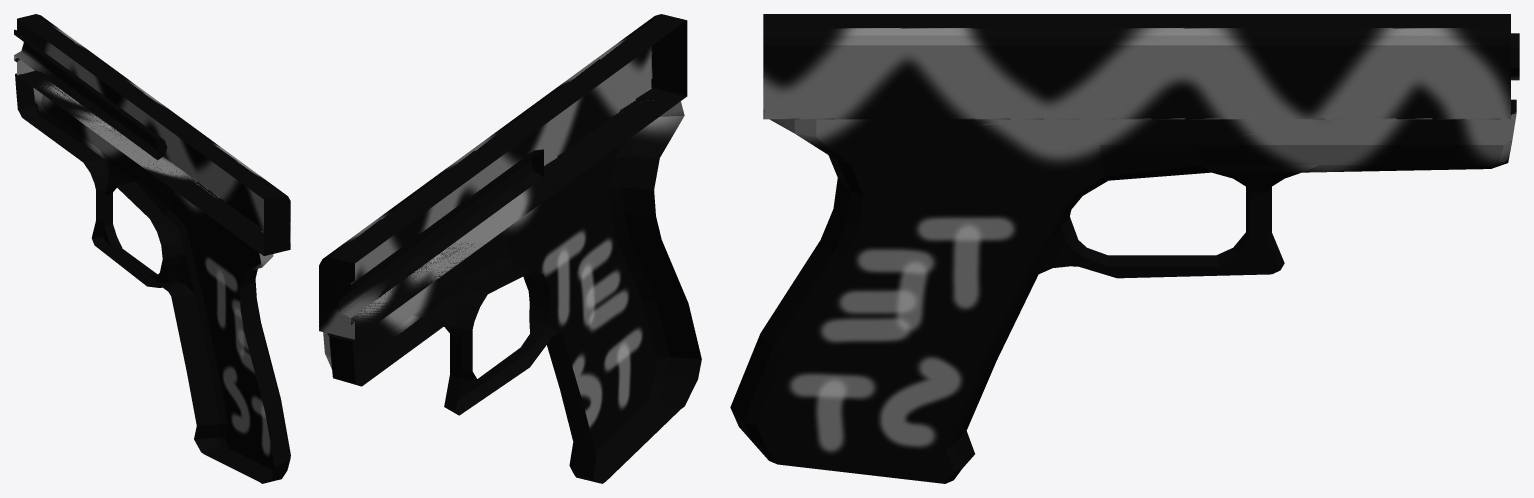
The model's file is test_gun1.glb.
3 renders of one model, left to right at view 1: azimuth 30°, elevation 25°; view 2: azimuth 150°, elevation 25°; view 3: azimuth 270°, elevation 25°, orthographic. The views are drawn at different scales.
Parts seen in each view (by area): view 1: 立方体.001, a; view 2: 立方体.001, a; view 3: 立方体.001, a.
Boxes of the visible parts, x1,y1,x2,y2 form: 立方体.001: (15,71,290,483); a: (14,14,290,255); 立方体.001: (323,100,701,483); a: (319,14,687,339); 立方体.001: (730,99,1516,483); a: (763,14,1519,119).
Size of the model in its own units: 0.0108 by 0.116 by 0.1837.
2 materials, 2 textured.
